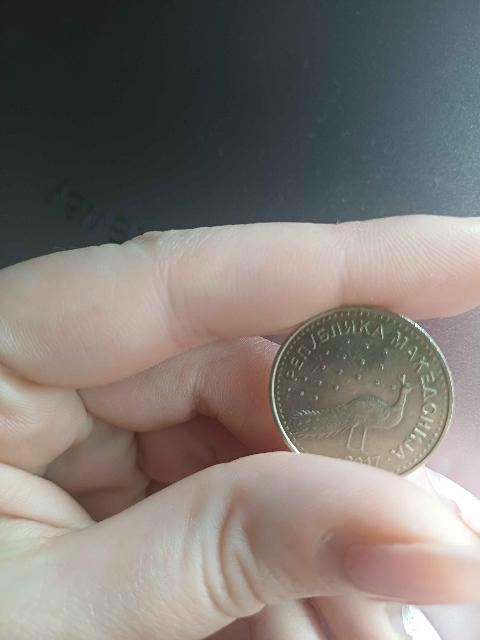10_coin: (271, 307, 453, 474)
